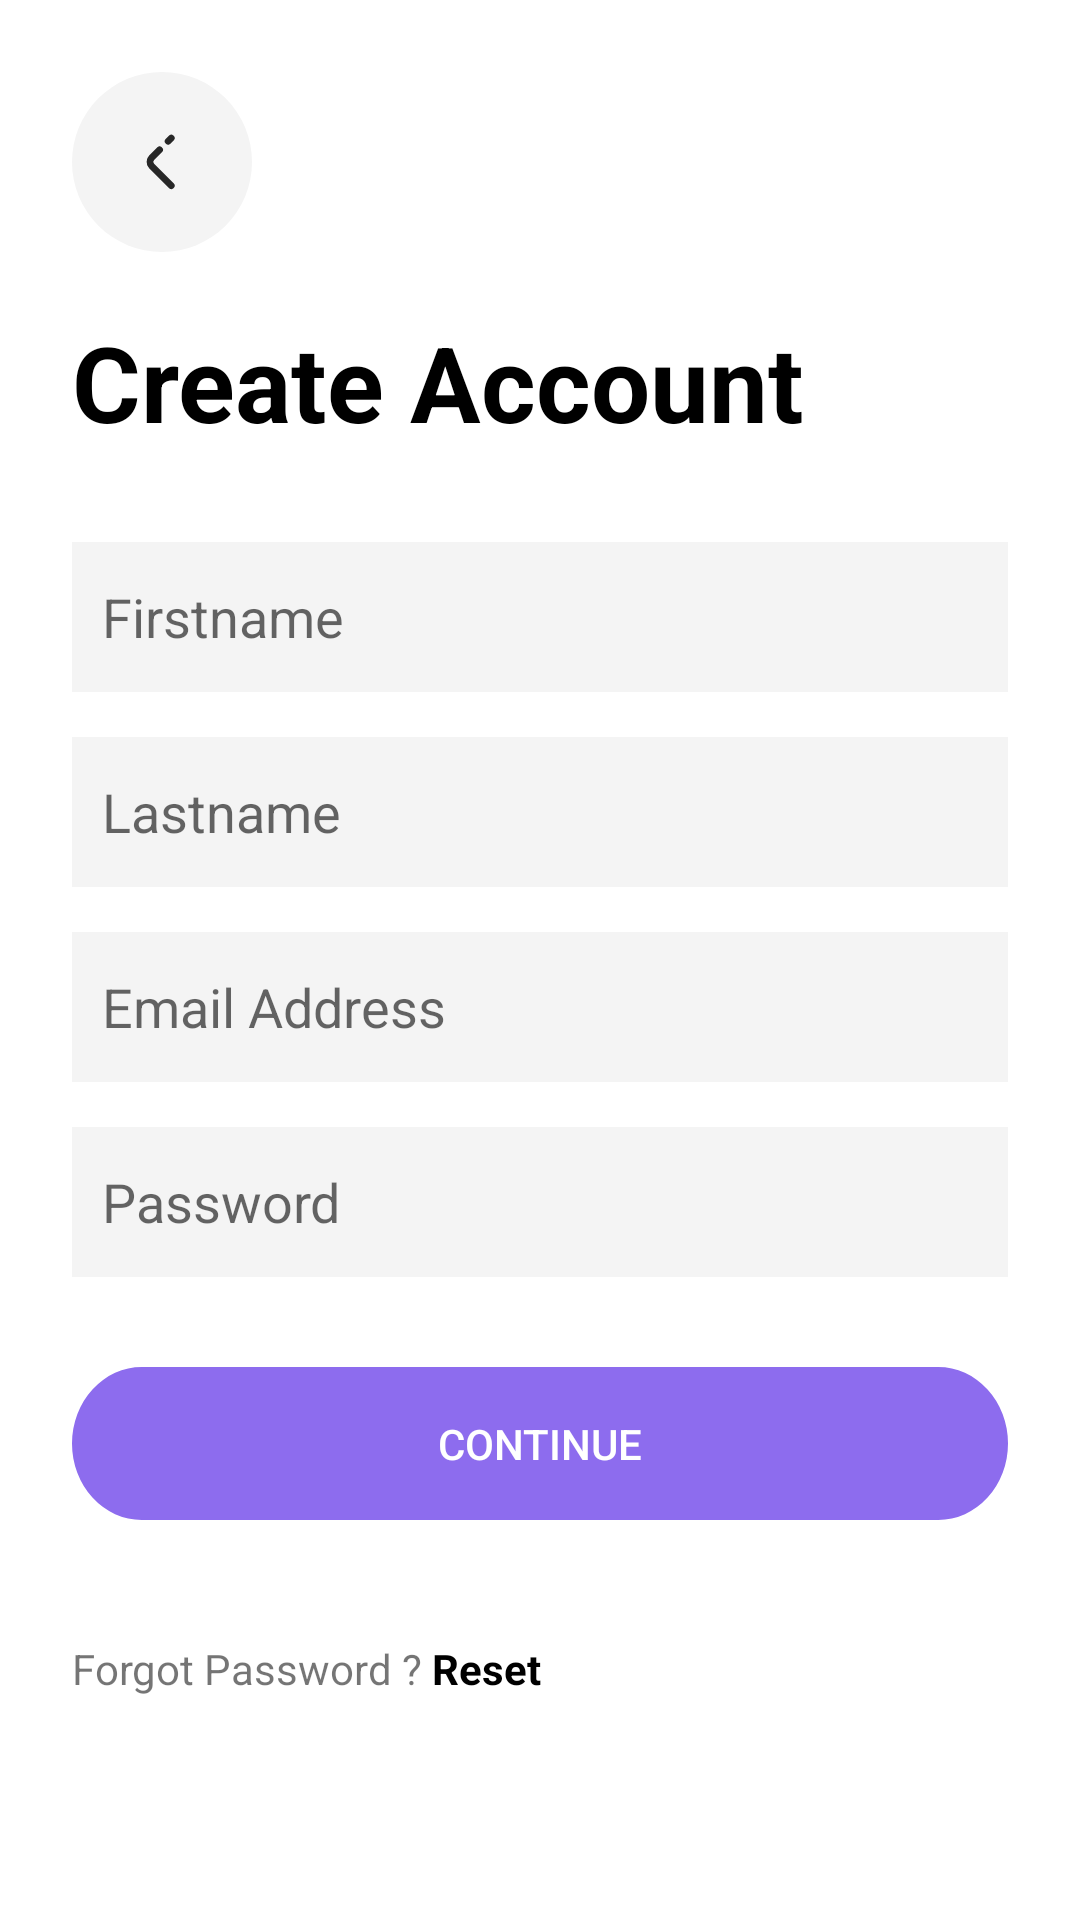

Icons on this 1080x1920 Android screen, each with its box as BBox(x1, y1, x2, y2):
arrow back: BBox(72, 72, 252, 252)
